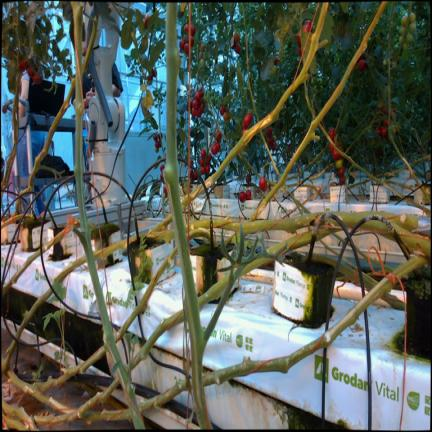MainStem: (247, 2, 388, 223), (202, 256, 429, 387), (204, 2, 329, 188), (162, 2, 213, 430), (70, 1, 123, 363), (19, 77, 75, 194), (319, 124, 406, 199), (114, 246, 178, 343), (388, 3, 420, 187), (34, 376, 120, 422), (33, 345, 107, 390), (131, 309, 183, 371), (6, 367, 76, 412), (117, 367, 146, 430), (134, 380, 188, 413), (391, 222, 430, 265), (242, 213, 323, 233), (266, 231, 312, 256), (83, 16, 98, 75), (213, 217, 241, 233)
tomato: (243, 114, 252, 128), (358, 58, 367, 71), (374, 46, 383, 59), (259, 177, 267, 190), (328, 127, 335, 141), (195, 90, 203, 101), (405, 33, 413, 43), (332, 150, 340, 160), (239, 191, 246, 202), (401, 15, 408, 26), (233, 32, 240, 43), (20, 59, 27, 70), (27, 66, 34, 77), (211, 142, 217, 154), (409, 22, 415, 34), (179, 38, 185, 50), (266, 126, 272, 138), (267, 137, 274, 147), (336, 158, 342, 169), (302, 23, 310, 31), (223, 112, 230, 121), (245, 174, 251, 184), (297, 31, 301, 46), (409, 12, 415, 22), (184, 42, 189, 54), (196, 107, 202, 117), (216, 130, 221, 142), (234, 43, 240, 53), (338, 167, 344, 177), (339, 175, 345, 185), (144, 13, 150, 22), (192, 99, 198, 108), (381, 128, 387, 137), (18, 61, 24, 70), (205, 155, 210, 165), (200, 102, 205, 112), (247, 112, 252, 122), (33, 75, 39, 83), (246, 190, 251, 199), (400, 26, 405, 35), (220, 105, 225, 114), (329, 144, 334, 153), (200, 58, 205, 67), (402, 42, 408, 49), (201, 149, 206, 157), (155, 140, 160, 148), (376, 126, 381, 134), (381, 106, 386, 114), (216, 142, 220, 151), (184, 24, 188, 33), (191, 25, 195, 34), (144, 19, 148, 28), (200, 42, 204, 51), (153, 134, 158, 141), (383, 119, 388, 126), (201, 166, 205, 174), (200, 158, 204, 166), (205, 165, 209, 173), (272, 142, 276, 150), (207, 154, 211, 161), (399, 36, 403, 43), (274, 58, 278, 65), (191, 37, 194, 46), (192, 107, 195, 116), (305, 20, 311, 24), (154, 146, 158, 152), (200, 52, 203, 58)
